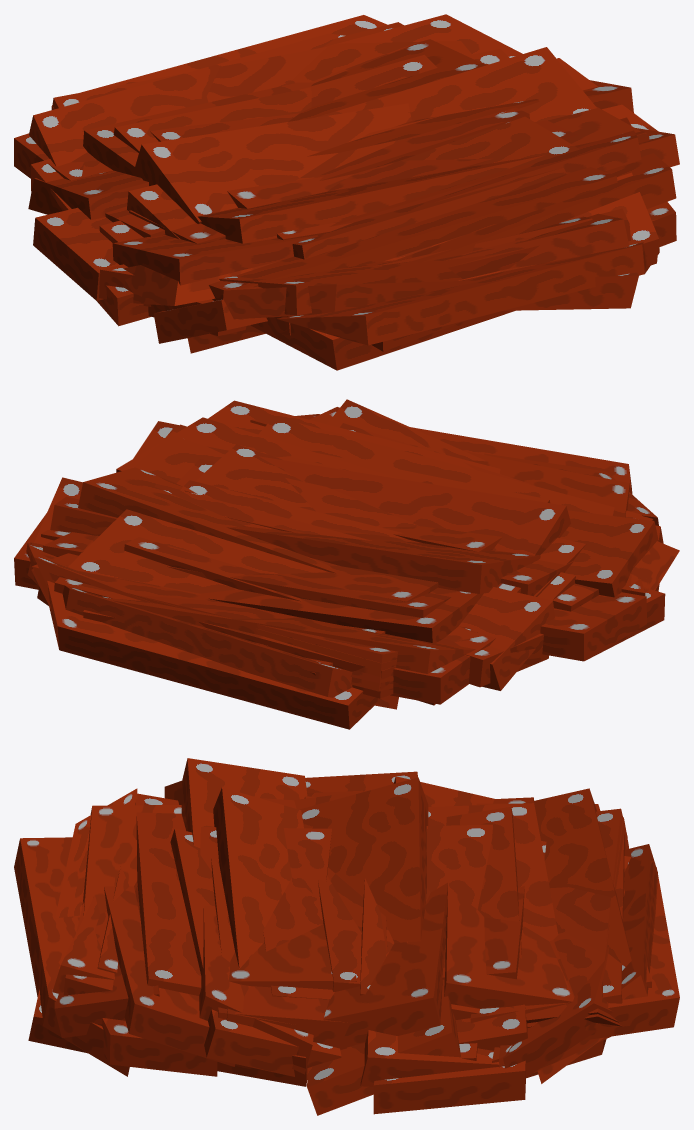
File: woodStorageMaterial.fbx
3 views of the same model, one above another, from view 1: azimuth 30°, elevation 25°; view 2: azimuth 150°, elevation 25°; view 3: azimuth 270°, elevation 25° (orthographic). The views are drawn at different scales.
Visible parts, largest first — view 1: Planks; view 2: Planks; view 3: Planks.
Part boxes in pixels (left/top/right/bottom): Planks: left=14, top=14, right=679, bottom=370; Planks: left=14, top=399, right=679, bottom=729; Planks: left=14, top=758, right=679, bottom=1115.
Size of the model in its own units: 242 by 44.49 by 229.
1 material, 1 textured.
